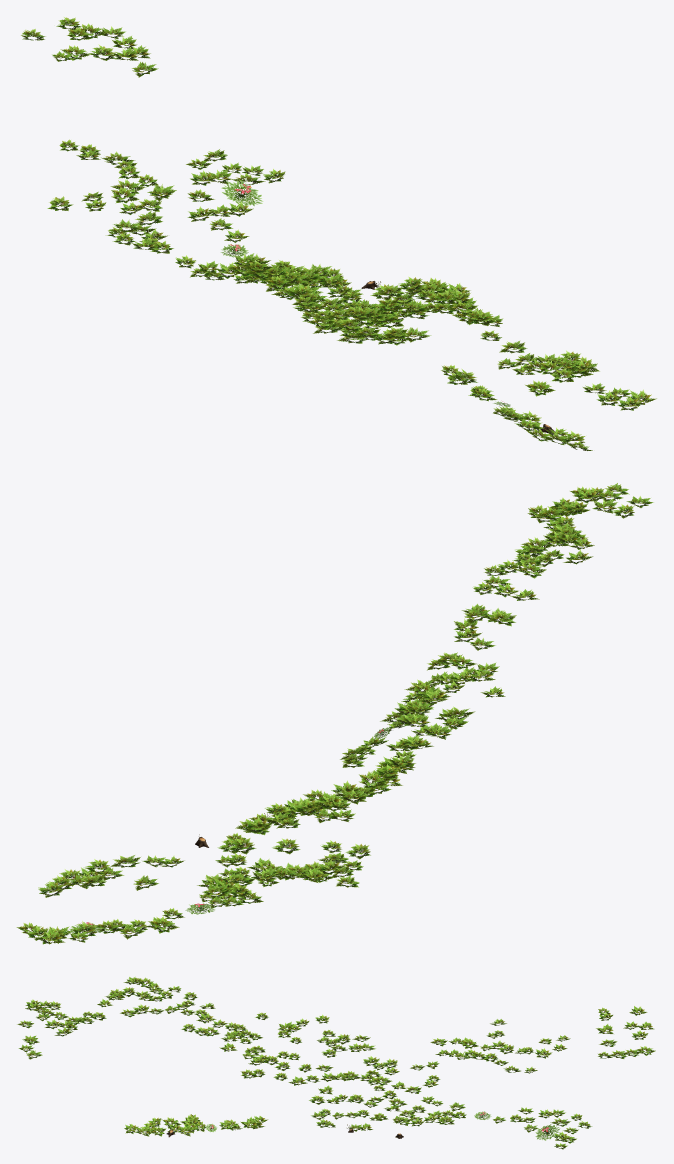
File: Ferns_02.fbx
The picture shows the model from 3 angles, top to bottom: view 1: azimuth 30°, elevation 25°; view 2: azimuth 150°, elevation 25°; view 3: azimuth 270°, elevation 25°; orthographic projection. The views are drawn at different scales.
Visible parts, largest first — view 1: Ferns_02; view 2: Ferns_02; view 3: Ferns_02.
Part boxes in pixels (<box>): Ferns_02: <box>21,17,656,450</box>; Ferns_02: <box>16,483,653,944</box>; Ferns_02: <box>17,976,655,1149</box>.
Size of the model in its own units: 4841 by 3061 by 15125.
